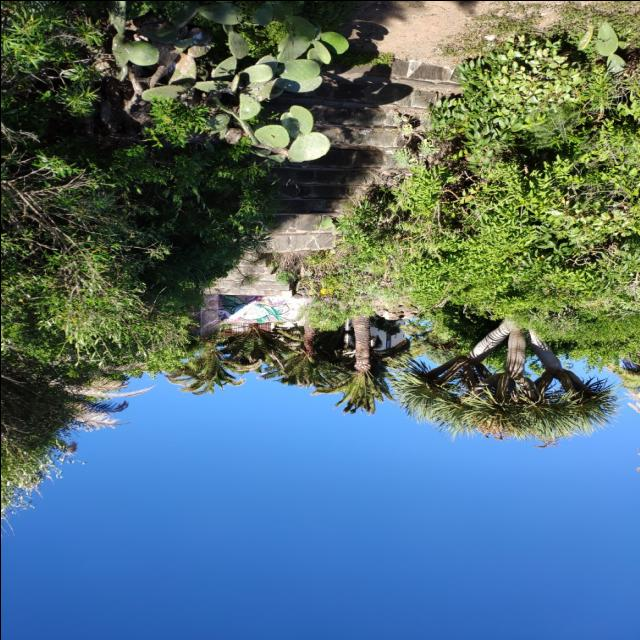Palm-Trees: (314, 313, 394, 417), (162, 338, 258, 394), (257, 324, 335, 382), (213, 322, 292, 368)
